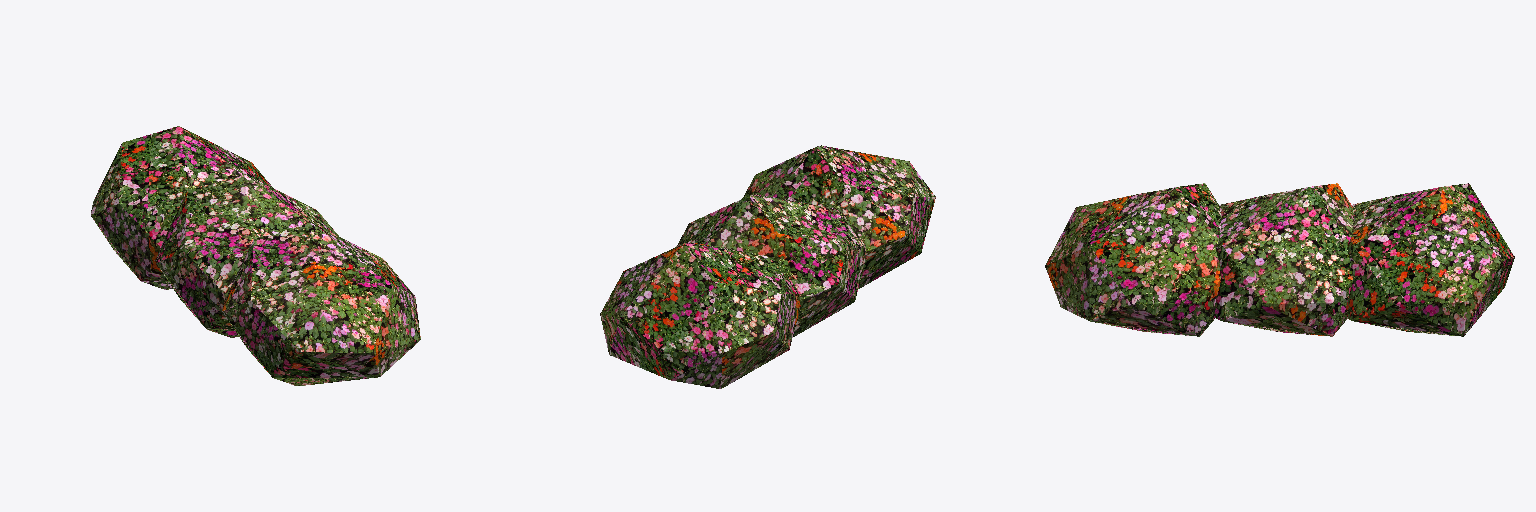
The picture shows the model from 3 angles: view 1: azimuth 30°, elevation 25°; view 2: azimuth 150°, elevation 25°; view 3: azimuth 270°, elevation 25°; orthographic projection.
Parts seen in each view (by area): view 1: Bush03.003_Icosphere.005; view 2: Bush03.003_Icosphere.005; view 3: Bush03.003_Icosphere.005.
Part boxes in pixels (left/top/right/bottom): Bush03.003_Icosphere.005: left=91, top=126, right=420, bottom=385; Bush03.003_Icosphere.005: left=600, top=145, right=935, bottom=388; Bush03.003_Icosphere.005: left=1045, top=183, right=1514, bottom=336.
Size of the model in its own units: 1.11 by 0.8774 by 2.65.
Materials: 1 (1 with a texture image).